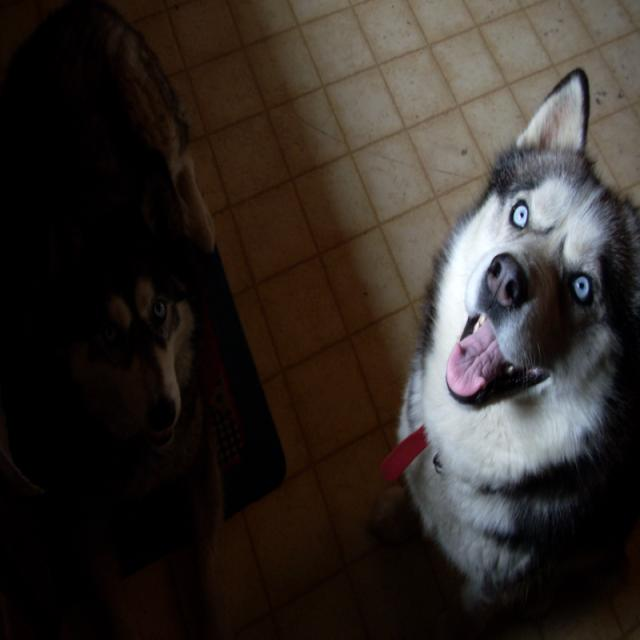Dog: (399, 129, 640, 640), (0, 207, 240, 434)
